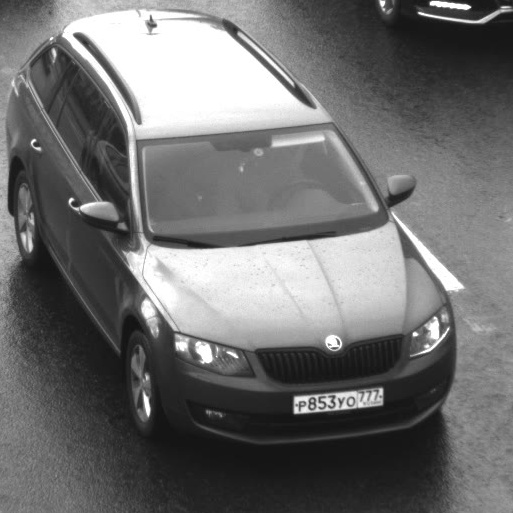plate: (279, 374, 394, 422)
